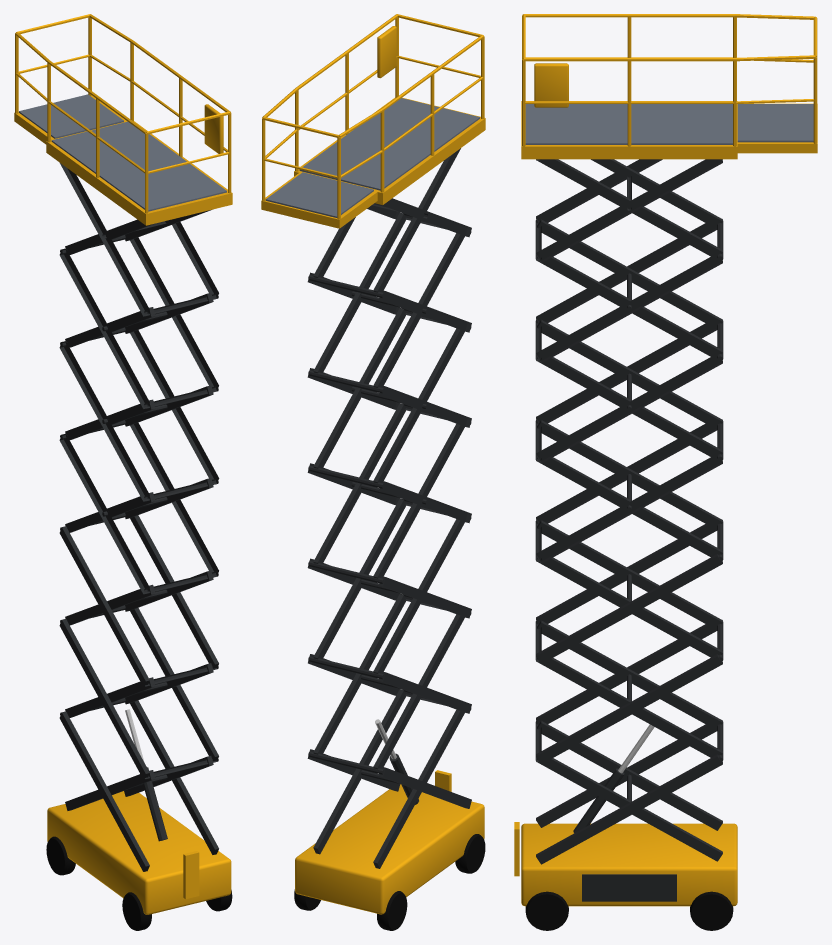
The model's file is plant.access.scissor_lift_10.glb.
3 renders of one model, left to right at view 1: azimuth 30°, elevation 25°; view 2: azimuth 150°, elevation 25°; view 3: azimuth 270°, elevation 25°, orthographic. The views are drawn at different scales.
Visible parts, largest first — view 1: scissors__steel_dark, base__plant_yellow, platform__plant_yellow, platform__steel_painted, base__rubber; view 2: scissors__steel_dark, base__plant_yellow, platform__plant_yellow, platform__steel_painted, base__rubber; view 3: scissors__steel_dark, base__plant_yellow, platform__plant_yellow, platform__steel_painted, base__rubber, base__steel_dark.
Part boxes in pixels (<box>): scissors__steel_dark: <box>59,163,219,871</box>; base__plant_yellow: <box>47,791,231,914</box>; platform__plant_yellow: <box>14,14,232,225</box>; platform__steel_painted: <box>19,94,226,211</box>; base__rubber: <box>46,836,232,930</box>; scissors__steel_dark: <box>307,148,471,868</box>; base__plant_yellow: <box>295,770,484,914</box>; platform__plant_yellow: <box>261,14,485,228</box>; platform__steel_painted: <box>265,98,479,217</box>; base__rubber: <box>294,834,485,930</box>; scissors__steel_dark: <box>535,159,723,864</box>; base__plant_yellow: <box>514,822,737,906</box>; platform__plant_yellow: <box>521,14,817,159</box>; platform__steel_painted: <box>525,104,813,144</box>; base__rubber: <box>525,891,733,930</box>; base__steel_dark: <box>582,874,676,901</box>.
Size of the model in its own units: 1.32 by 11.12 by 3.5.
